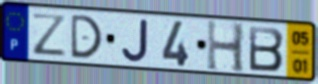4: (160, 18, 193, 69)
B: (247, 25, 286, 74)
D: (69, 13, 104, 60)
H: (206, 18, 247, 75)
J: (120, 18, 150, 64)
Z: (30, 12, 69, 58)
